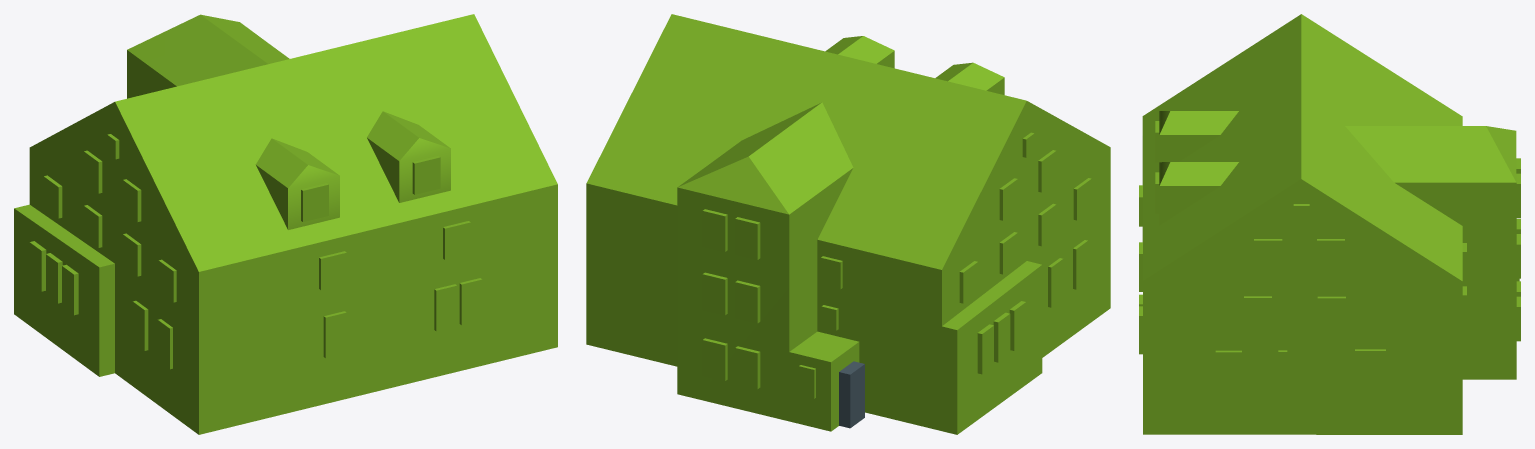
3 renders of one model, left to right at view 1: azimuth 30°, elevation 25°; view 2: azimuth 150°, elevation 25°; view 3: azimuth 270°, elevation 25°, orthographic. The views are drawn at different scales.
Parts seen in each view (by area): view 1: A14; view 2: A14, Entrance; view 3: A14.
Boxes of the visible parts, <box> form: A14: <box>14,14,557,434</box>; A14: <box>586,14,1110,434</box>; Entrance: <box>839,361,864,428</box>; A14: <box>1139,14,1520,434</box>.
Size of the model in its own units: 14.76 by 10 by 13.54.
